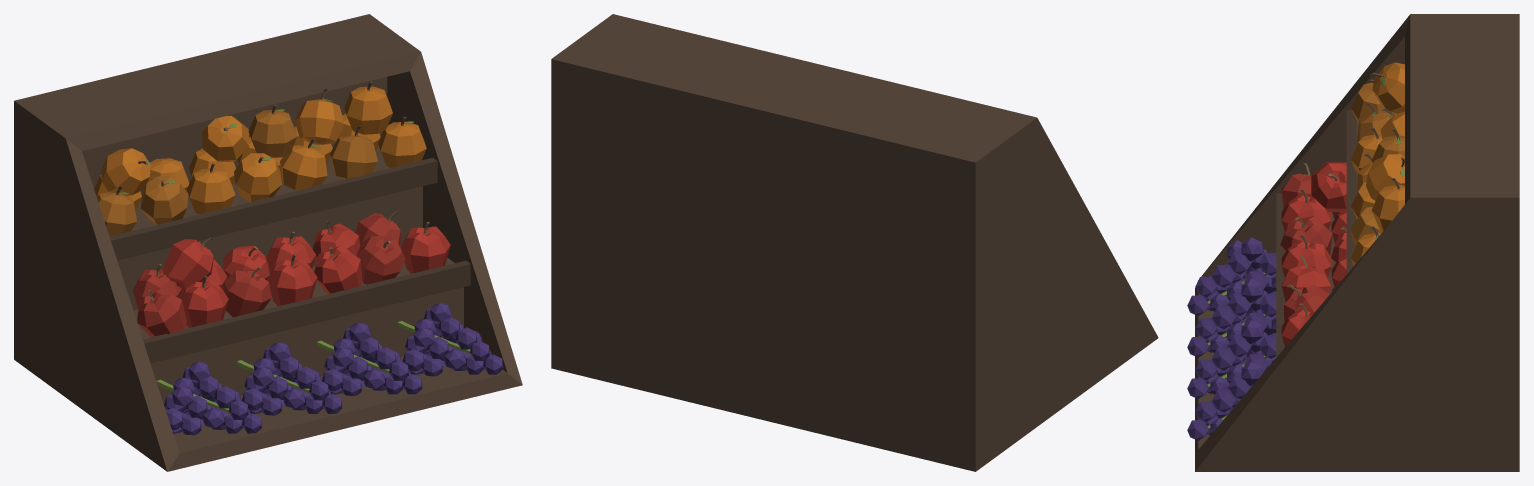
Rendered from SM_Props_Farm_Crate_Filled_Stall_01.fbx.
The picture shows the model from 3 angles, left to right: view 1: azimuth 30°, elevation 25°; view 2: azimuth 150°, elevation 25°; view 3: azimuth 270°, elevation 25°; orthographic projection. The views are drawn at different scales.
Visible parts, largest first — view 1: SM_Props_Farm_Crate_Filled_Stall_01; view 2: SM_Props_Farm_Crate_Filled_Stall_01; view 3: SM_Props_Farm_Crate_Filled_Stall_01.
Part boxes in pixels (x1,y1,x2,y2): SM_Props_Farm_Crate_Filled_Stall_01: [14, 14, 522, 471]; SM_Props_Farm_Crate_Filled_Stall_01: [551, 14, 1158, 471]; SM_Props_Farm_Crate_Filled_Stall_01: [1187, 14, 1519, 471].
Bounding box in the file's own units: 104 × 72.51 × 79.64.
